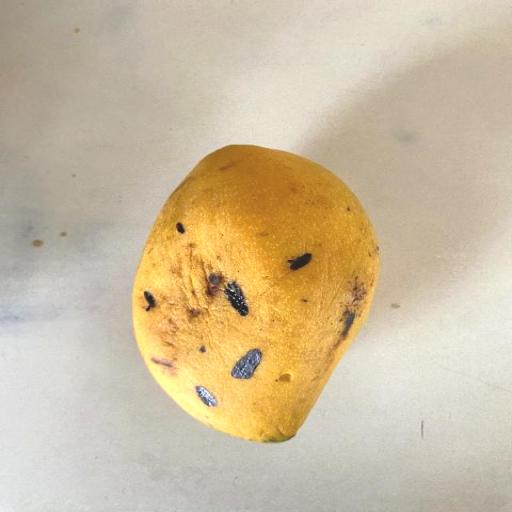mango-overripe: (121, 116, 403, 471)
